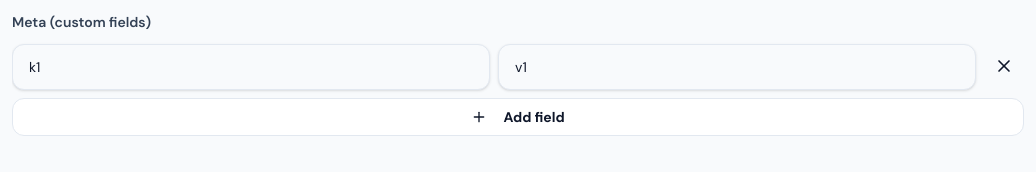
Scenario: MetaEditor › clicking remove drops the row
The image size is (1036, 172).
Expected: the number of fields is 2, left=12, top=44, right=490, bottom=90; left=498, top=44, right=976, bottom=90
Click the button named "remove" at x=1004, y=66, box left=984, top=46, right=1024, bottom=86
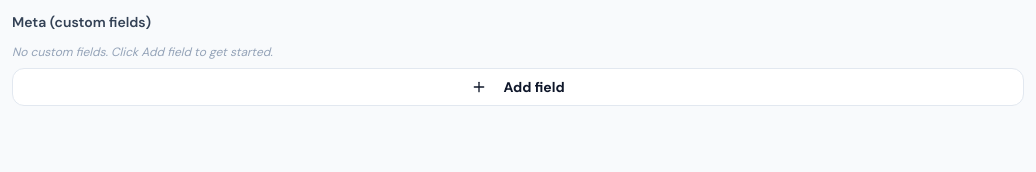
Now no fields are shown
